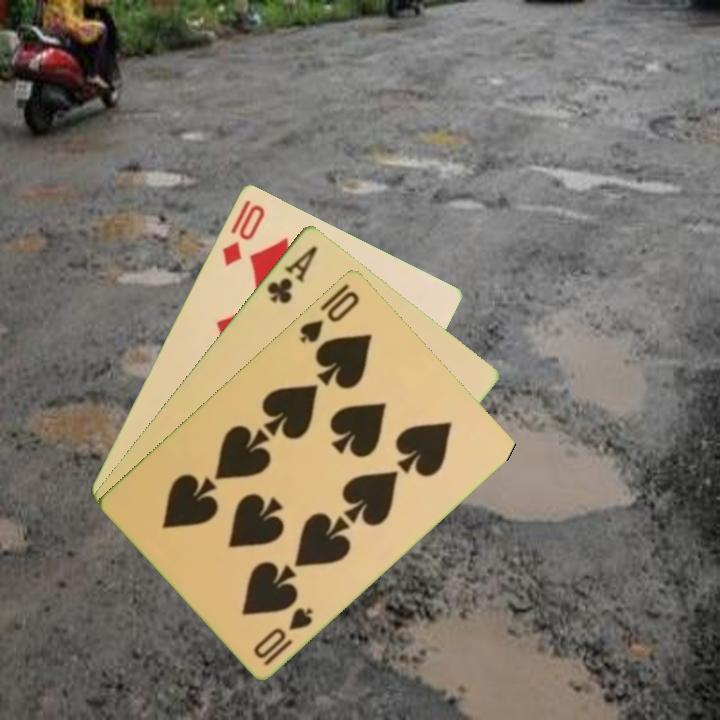10d: (218, 200, 268, 268)
10s: (250, 603, 316, 669), (296, 286, 362, 345)
Ac: (263, 241, 321, 306)
